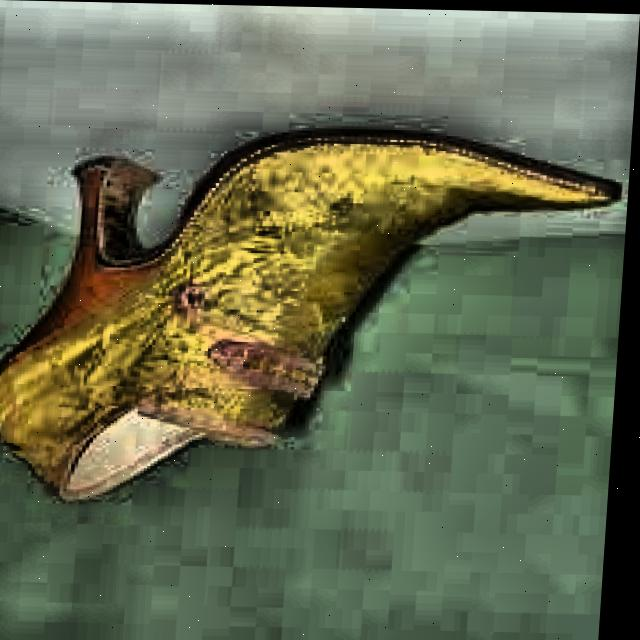shoes: (0, 107, 627, 523)
